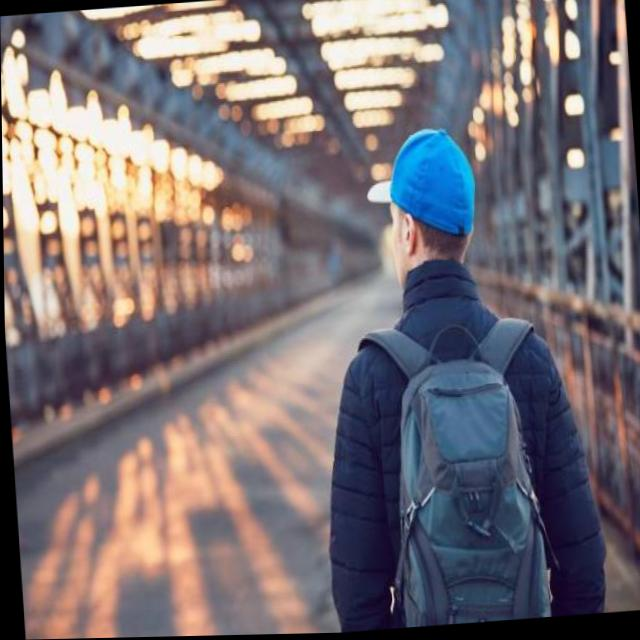no helmet: (350, 125, 479, 289)
